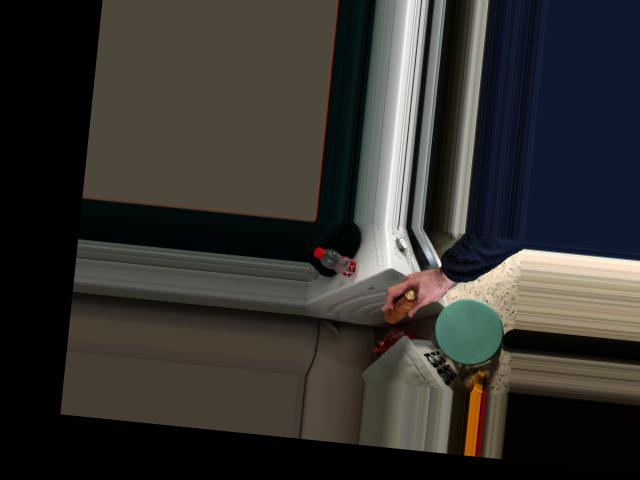sweet_potato: (379, 283, 423, 324)
